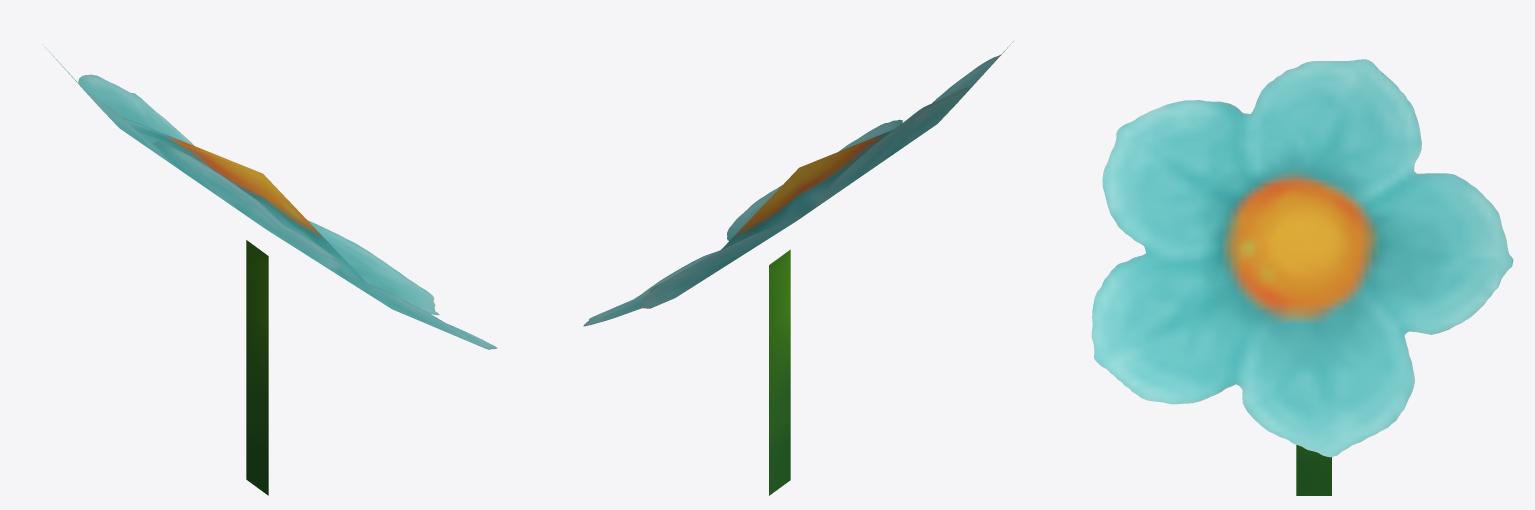
Rendered from flower_10.FBX.
3 renders of one model, left to right at view 1: azimuth 30°, elevation 25°; view 2: azimuth 150°, elevation 25°; view 3: azimuth 270°, elevation 25°, orthographic. The views are drawn at different scales.
Parts seen in each view (by area): view 1: NGon011; view 2: NGon011; view 3: NGon011.
Boxes of the visible parts, <box> form: NGon011: <box>42,44,497,495</box>; NGon011: <box>583,41,1013,495</box>; NGon011: <box>1091,59,1513,495</box>.
Bounding box in the file's own units: 0.4087 × 0.4451 × 0.462.
